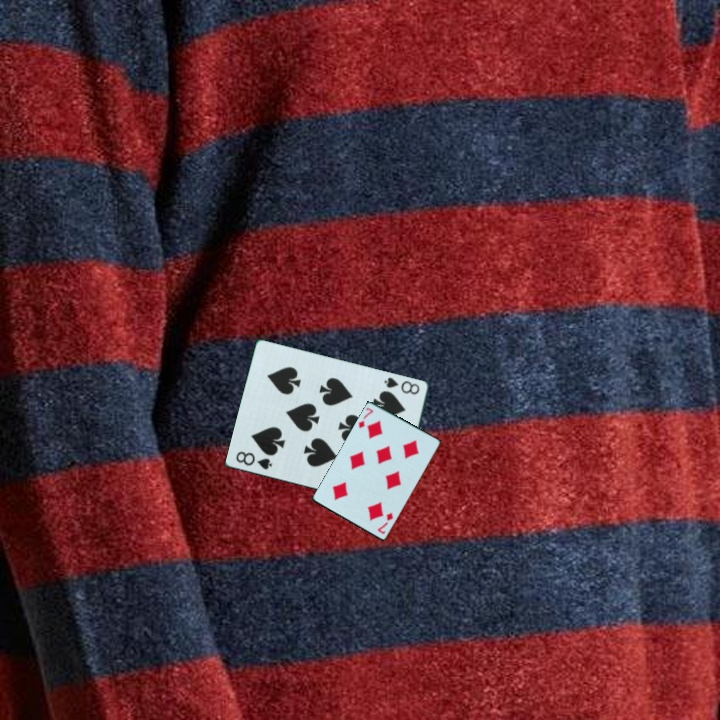7d: (374, 509, 396, 537), (355, 404, 376, 431)
8s: (233, 447, 276, 472), (381, 373, 423, 397)
